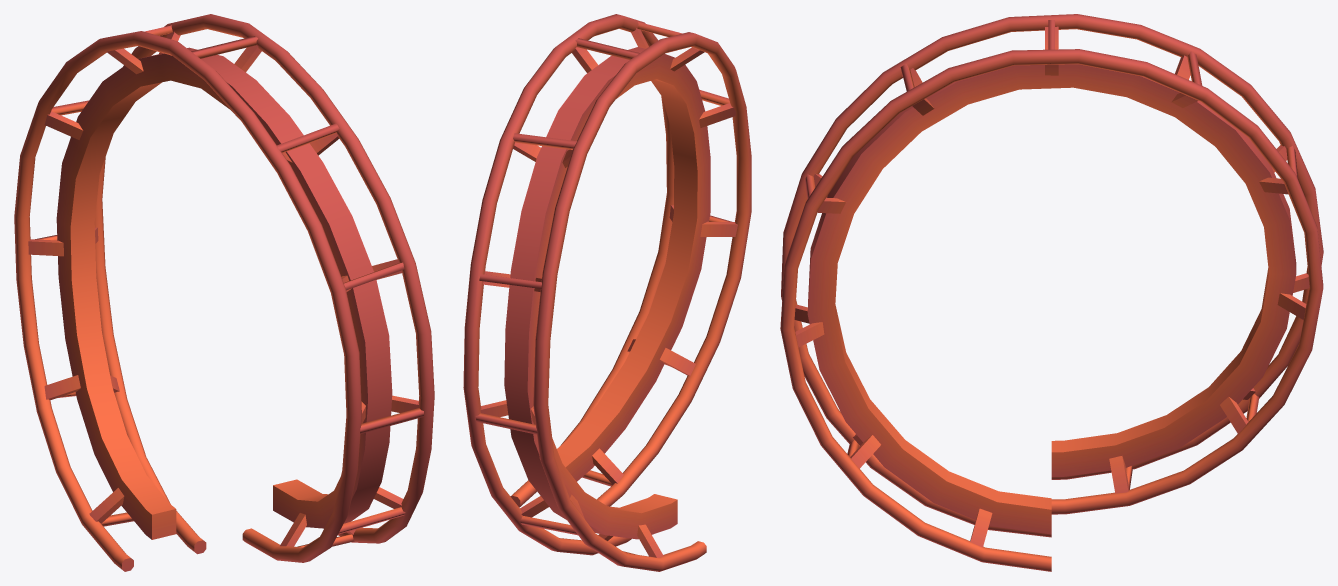
The model's file is kenney-coaster-coaster-hanging-looping.glb.
3 renders of one model, left to right at view 1: azimuth 30°, elevation 25°; view 2: azimuth 150°, elevation 25°; view 3: azimuth 270°, elevation 25°, orthographic. The views are drawn at different scales.
Visible parts, largest first — view 1: coaster-hanging-looping; view 2: coaster-hanging-looping; view 3: coaster-hanging-looping.
Boxes of the visible parts, x1,y1,x2,y2 form: coaster-hanging-looping: [14, 14, 434, 571]; coaster-hanging-looping: [463, 14, 751, 571]; coaster-hanging-looping: [780, 14, 1323, 571].
Size of the model in its own units: 1.7 by 3.99 by 4.
1 material, 1 textured.
